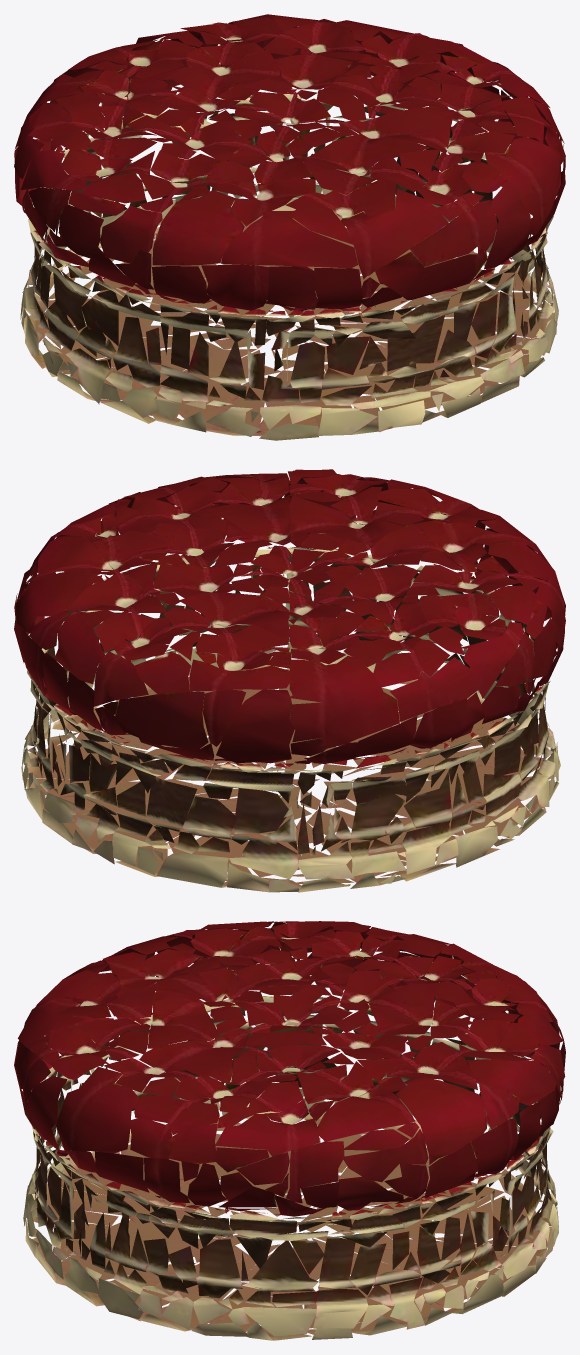
Rendered from ottoman.glb.
The picture shows the model from 3 angles, top to bottom: view 1: azimuth 30°, elevation 25°; view 2: azimuth 150°, elevation 25°; view 3: azimuth 270°, elevation 25°; orthographic projection.
Parts seen in each view (by area): view 1: Mesh_0; view 2: Mesh_0; view 3: Mesh_0.
Boxes of the visible parts, x1=… form: Mesh_0: x1=14, y1=14, x2=565, y2=440; Mesh_0: x1=14, y1=469, x2=565, y2=892; Mesh_0: x1=14, y1=921, x2=565, y2=1340.
Size of the model in its own units: 1.15 by 0.5 by 1.14.
Materials: 1 (1 with a texture image).
